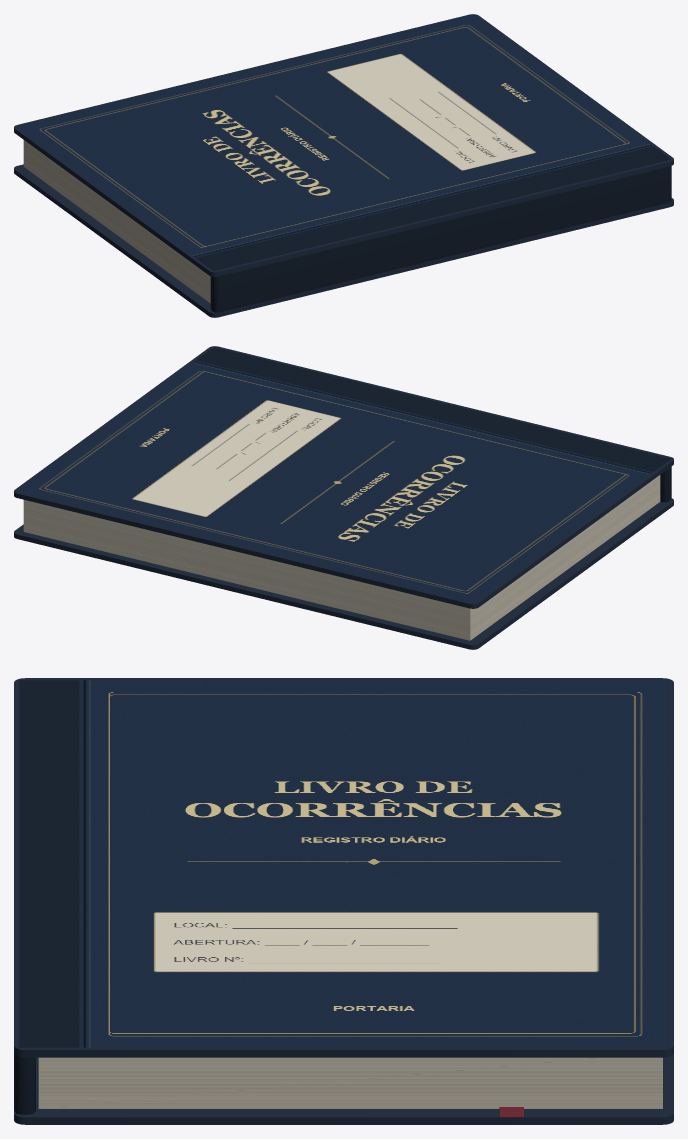
Rendered from livro_ocorrencias.glb.
The picture shows the model from 3 angles, top to bottom: view 1: azimuth 30°, elevation 25°; view 2: azimuth 150°, elevation 25°; view 3: azimuth 270°, elevation 25°; orthographic projection. The views are drawn at different scales.
Visible parts, largest first — view 1: Capa impressa LIVRO DE OCORRENCIAS, Lombada arredondada, Capa superior, Contracapa, Paginas com textura de corte; view 2: Capa impressa LIVRO DE OCORRENCIAS, Paginas com textura de corte, Contracapa, Capa superior; view 3: Capa impressa LIVRO DE OCORRENCIAS, Paginas com textura de corte, Capa superior, Contracapa, Lombada arredondada.
Part boxes in pixels (box(x1,y1,x2,y2)): Capa impressa LIVRO DE OCORRENCIAS: box(16, 15, 671, 271); Lombada arredondada: box(210, 166, 671, 312); Capa superior: box(14, 14, 673, 276); Contracapa: box(14, 164, 673, 317); Paginas com textura de corte: box(23, 140, 210, 303); Capa impressa LIVRO DE OCORRENCIAS: box(16, 347, 671, 603); Paginas com textura de corte: box(23, 475, 660, 640); Contracapa: box(14, 498, 673, 649); Capa superior: box(14, 346, 673, 608); Capa impressa LIVRO DE OCORRENCIAS: box(19, 680, 668, 1047); Paginas com textura de corte: box(38, 1057, 662, 1108); Capa superior: box(14, 678, 673, 1057); Contracapa: box(14, 1053, 673, 1124); Lombada arredondada: box(14, 1053, 35, 1114).
Bounding box in the file's own units: 0.322 × 0.03 × 0.24.
5 materials, 2 textured.
